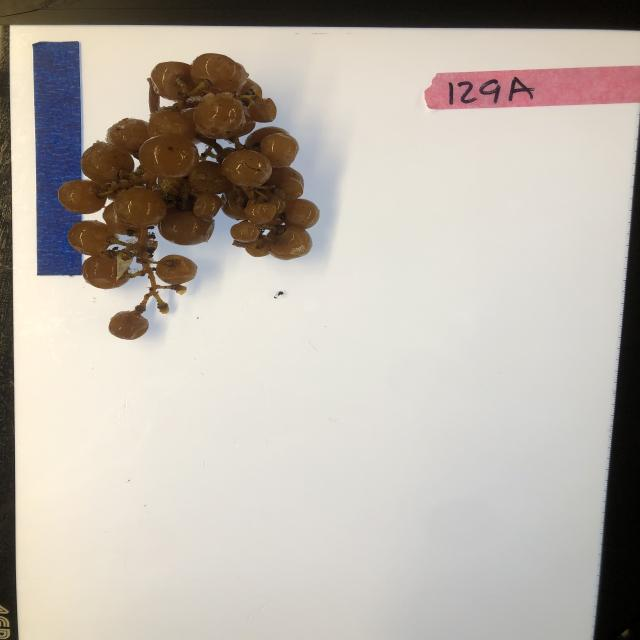grape_cluster: (57, 52, 321, 342)
index: (424, 64, 638, 111)
measure_label: (29, 39, 84, 279)
